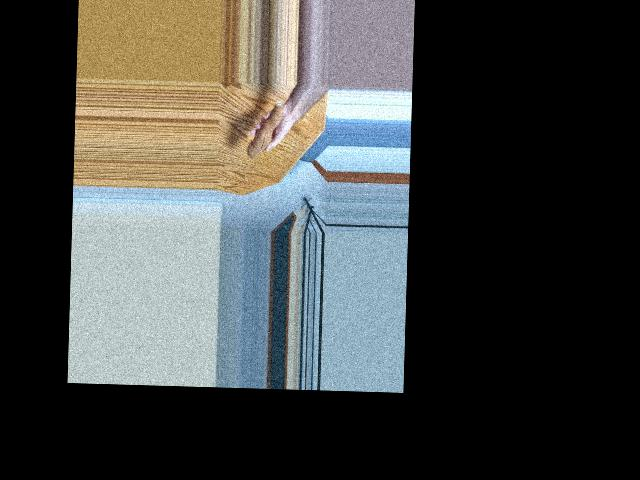sweet_potato: (246, 98, 288, 161)
